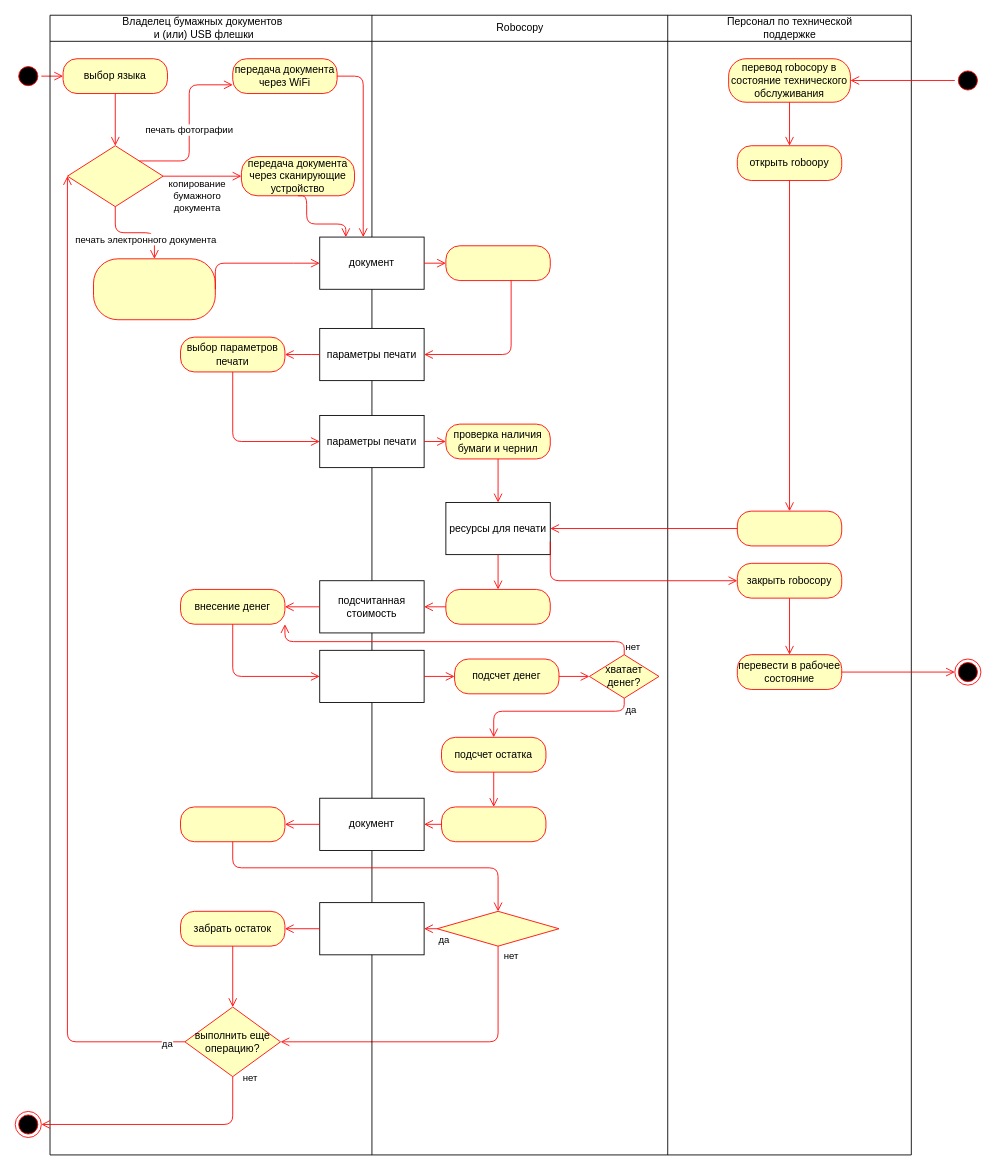
Image size: 996x1171. Some labels were removed from this diagram. Here are the shapes that lost their labels. From the top down, the centre of each, then its label:
point 115,176: выбор операции
point 497,263: вывод документа и параметров печати
point 154,289: передача документа через USB флешку
point 789,528: пополнение ресурсов для печати
point 497,606: подсчет денежной стоимости печати
point 371,676: деньги
point 232,824: забрать документ
point 493,824: печать документа
point 371,928: денежный остаток
point 497,928: есть остаток?
